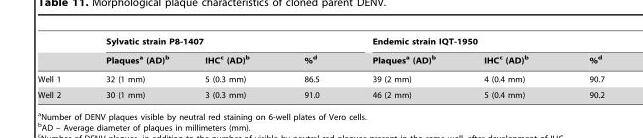table: (37, 36, 603, 99)
table column: (345, 36, 459, 99), (82, 36, 186, 99), (459, 36, 558, 99), (186, 36, 276, 99), (276, 36, 345, 99), (37, 36, 82, 99), (558, 36, 603, 99)
table column header: (37, 36, 603, 69)
table row: (37, 49, 603, 69), (37, 69, 603, 86), (37, 36, 603, 49), (37, 86, 603, 99)
table spanning cell: (82, 36, 345, 49), (345, 36, 603, 49)
